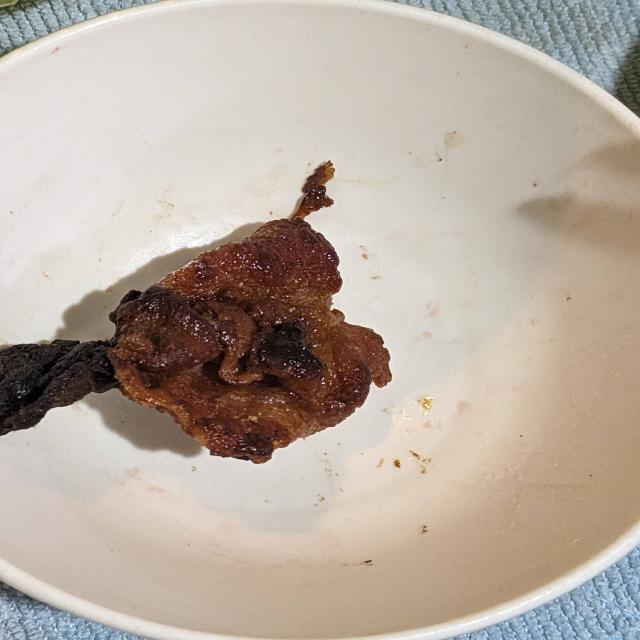overcooked pork: (0, 211, 407, 466)
